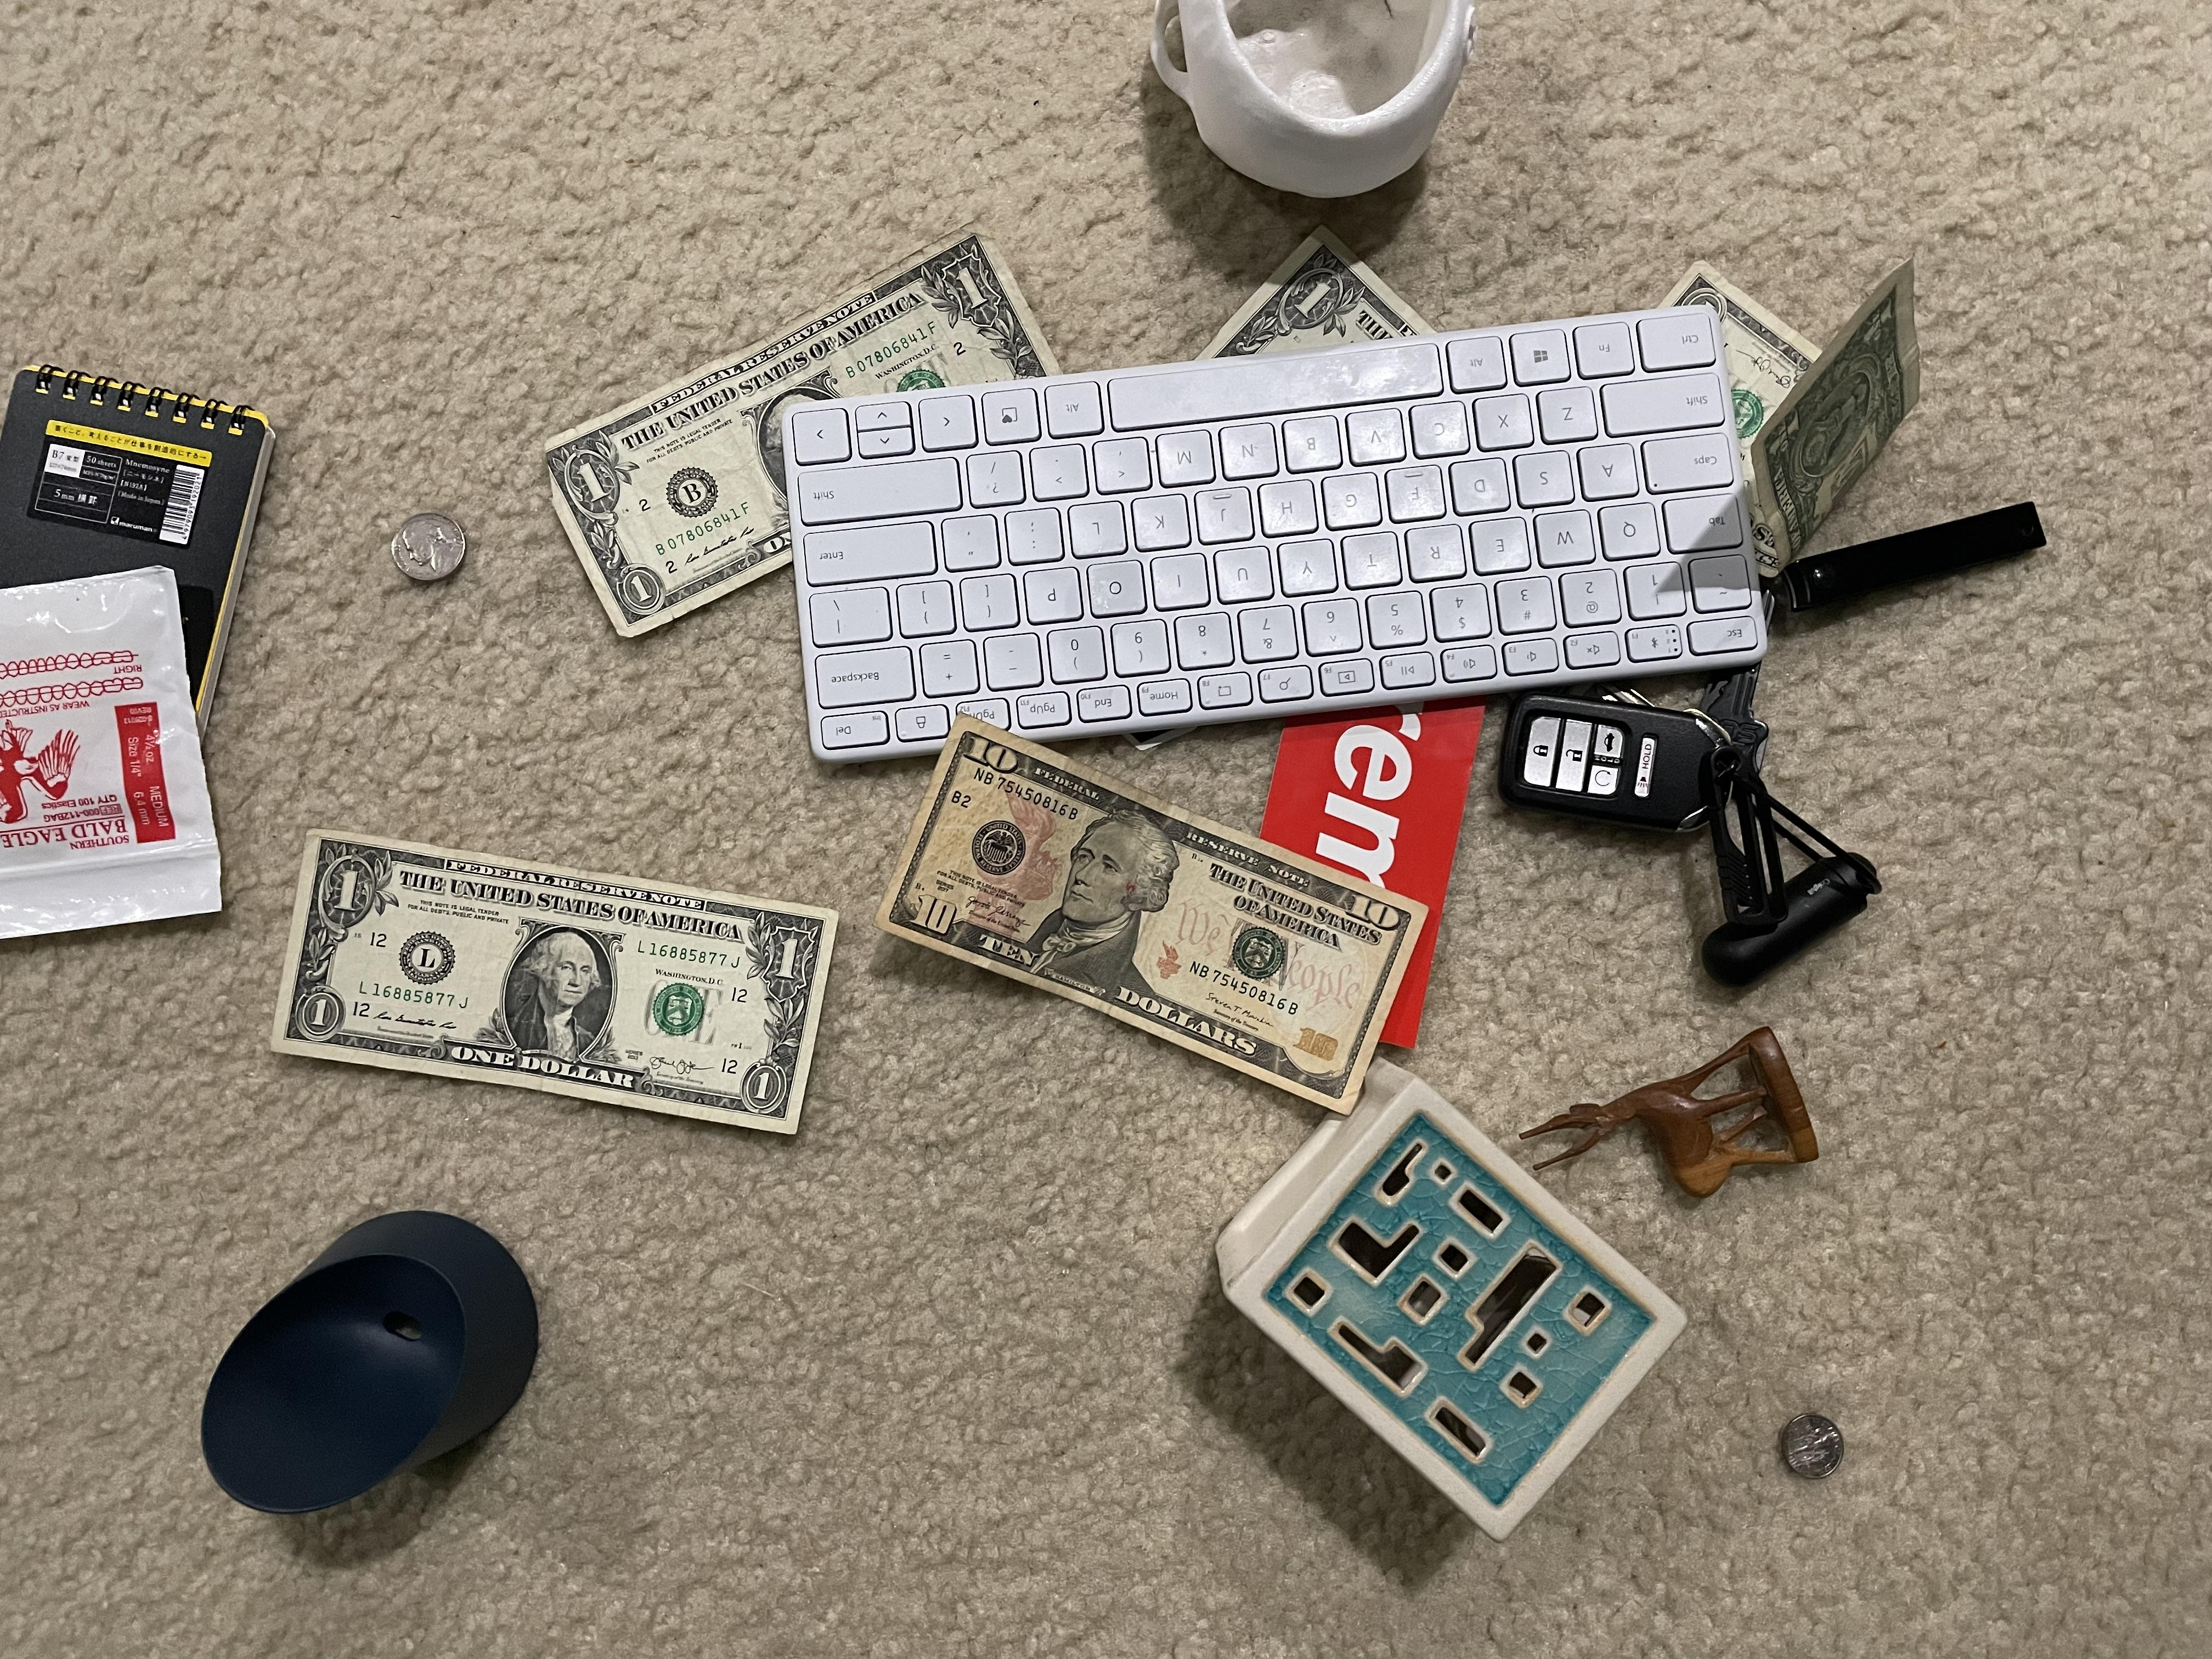Dime: (1778, 1399, 1844, 1481)
Nickel: (383, 505, 482, 584)
OneBill: (540, 225, 1073, 648), (266, 805, 845, 1145), (1637, 247, 1926, 586)
TenBill: (874, 706, 1433, 1115)
